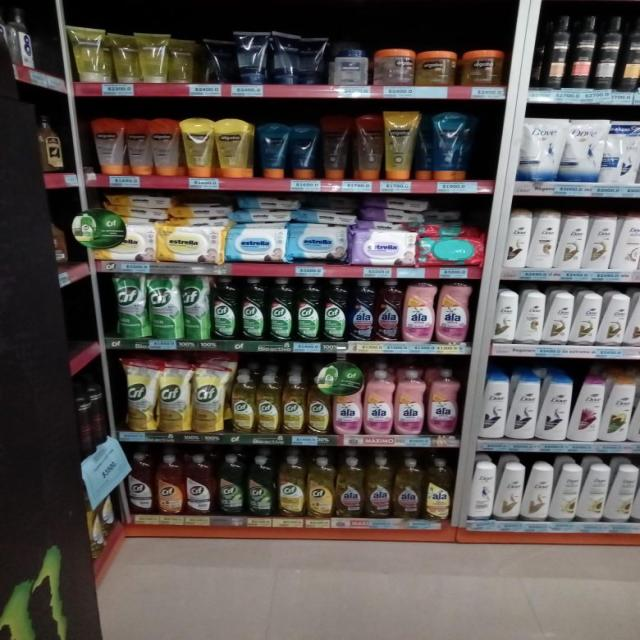ala_conc_amarillo: (425, 457, 453, 521), (336, 456, 364, 518), (394, 458, 422, 519), (366, 456, 392, 519)
ala_conc_azul: (349, 278, 375, 342)
ala_conc_rojo: (375, 278, 402, 342)
ala_ultra_rosa: (427, 368, 461, 436), (395, 368, 426, 436), (437, 282, 471, 344), (364, 366, 394, 436), (403, 280, 435, 343), (333, 381, 363, 435)
cif_conc_bot_amarilla: (278, 455, 306, 518), (307, 456, 334, 518), (307, 375, 332, 435), (256, 372, 280, 434), (282, 373, 306, 435), (231, 372, 255, 434)
cif_conc_botella_roja: (185, 454, 216, 516), (126, 452, 154, 516), (157, 454, 184, 515)
cif_conc_botella_verde: (247, 455, 275, 517), (241, 276, 267, 341), (218, 454, 245, 516), (212, 276, 238, 340), (268, 277, 294, 341), (296, 277, 321, 342), (323, 278, 347, 342)
cif_conc_sachet_amarillo: (193, 354, 228, 434), (124, 356, 157, 432), (158, 357, 190, 433)
cif_conc_sachet_verde: (114, 273, 147, 339), (150, 274, 182, 340), (183, 274, 210, 340)
